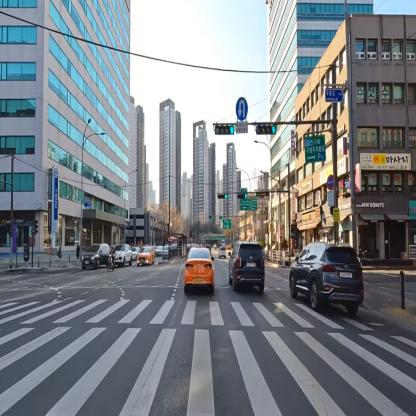Green: (256, 124, 275, 136), (216, 122, 234, 134), (218, 192, 228, 199), (238, 192, 247, 198), (210, 214, 214, 220), (218, 215, 224, 219)
